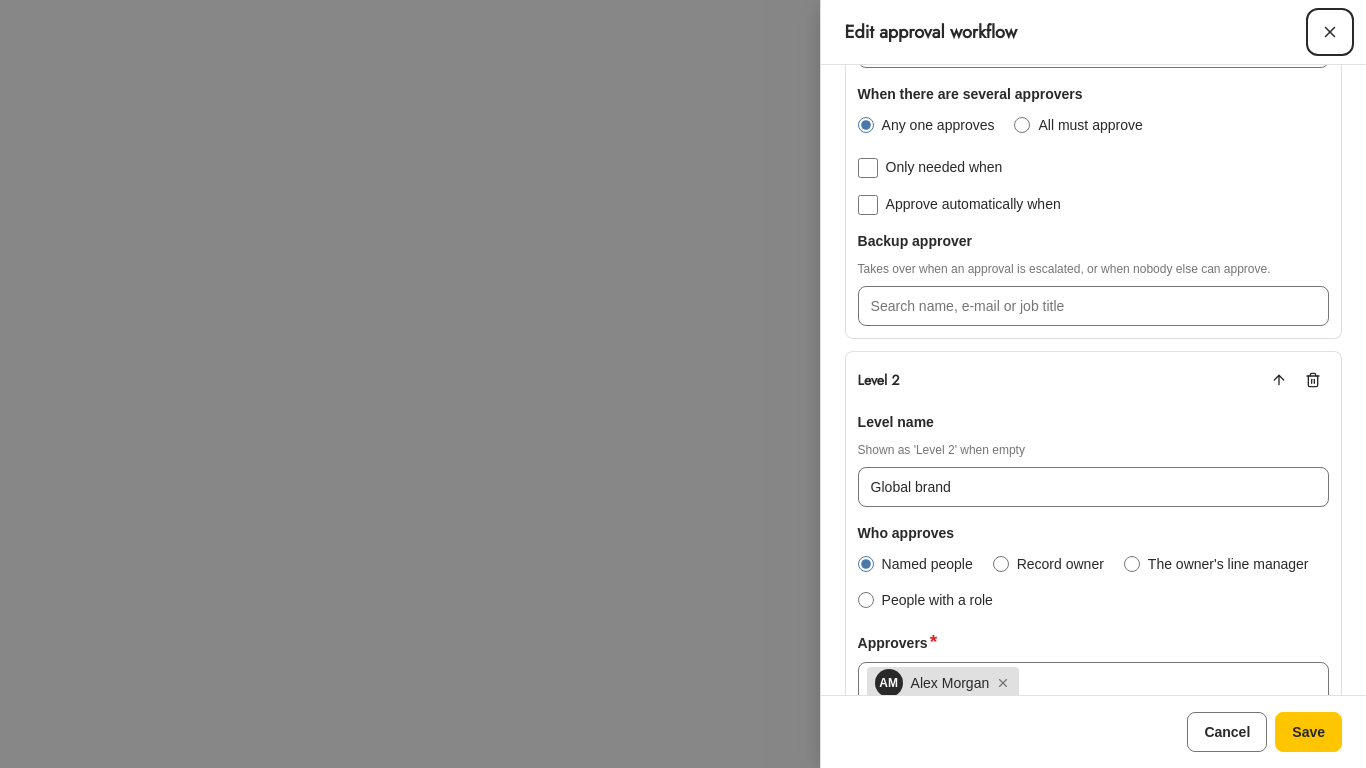
Test case: WorkflowFormPanel (feature 008, US4) › sends the new levels when they changed
(page scrolled)
Step 1. Click the button named "Move level 2 up" → (1279, 380), box [1263, 364, 1295, 396]
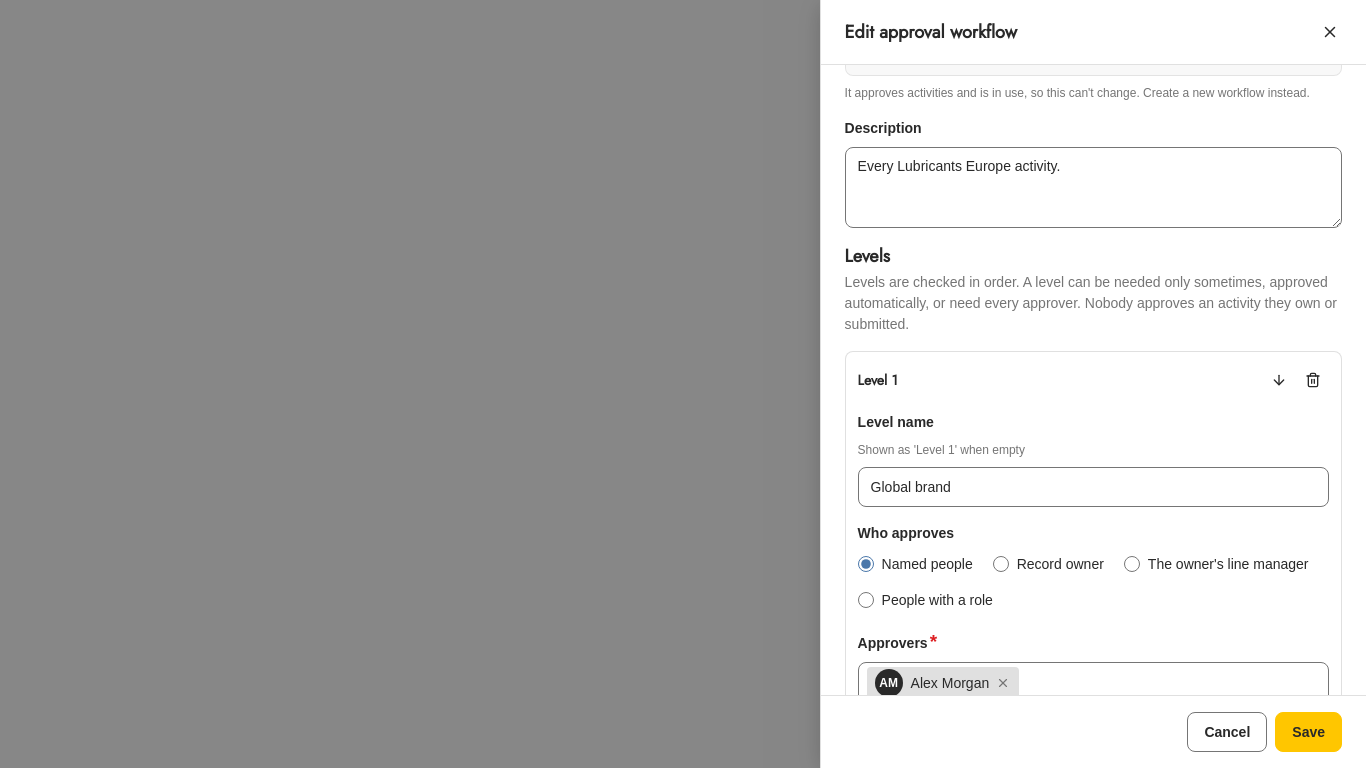
Step 2. Click the button "Save" → (1309, 732), box [1275, 712, 1342, 752]
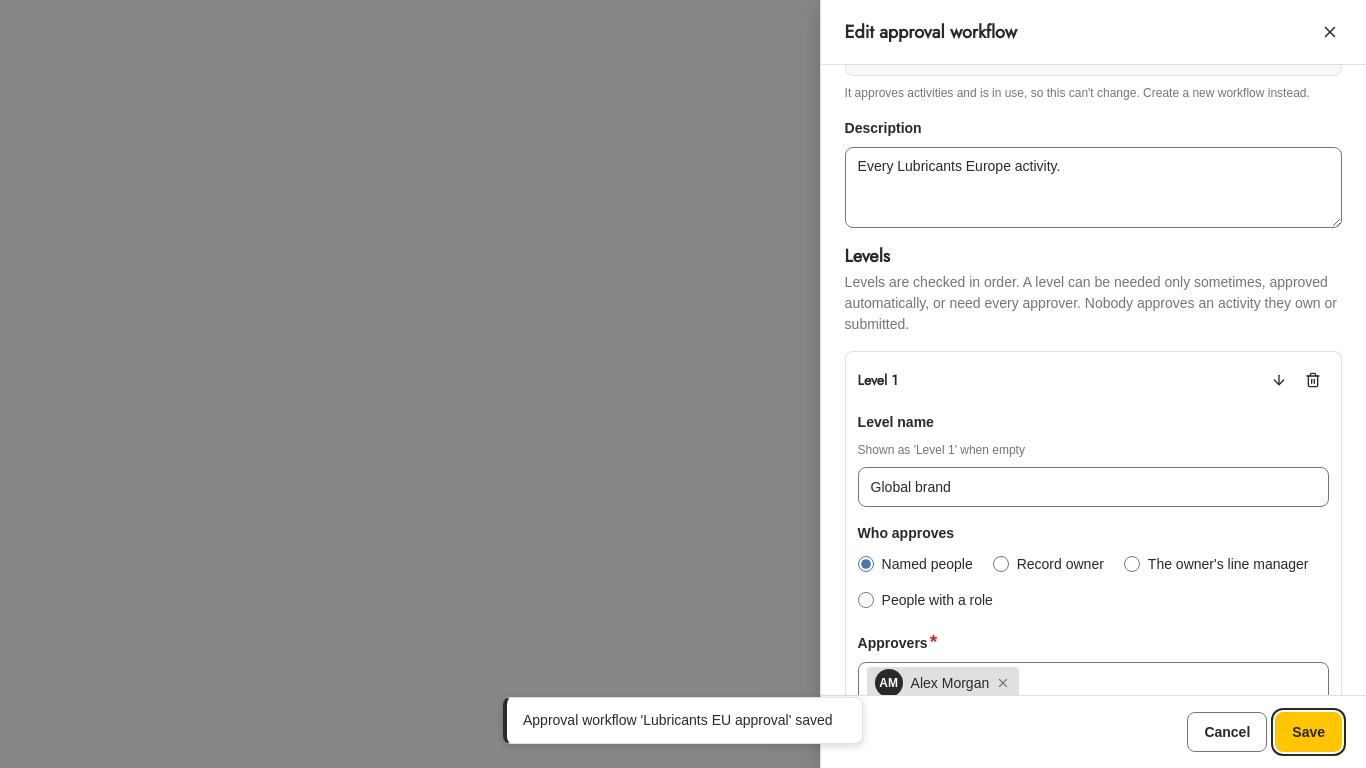
Expected: the text "Approval workflow 'Lubricants EU approval' saved" is shown, [523, 710, 850, 731]
